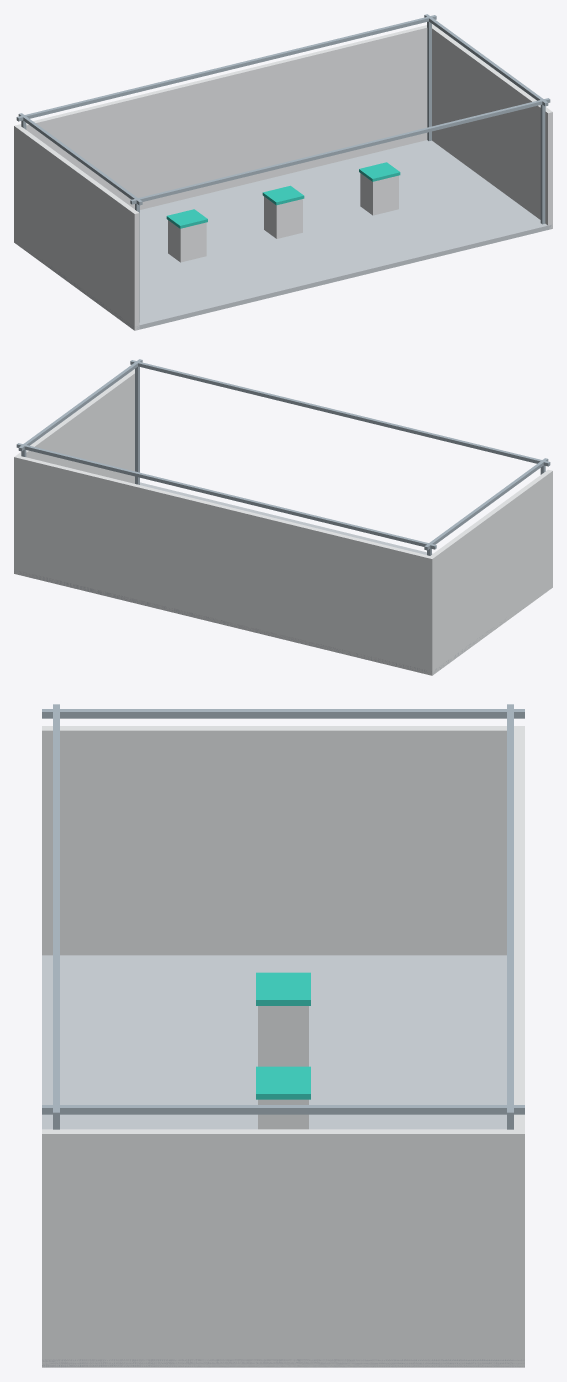
3 renders of one model, top to bottom at view 1: azimuth 30°, elevation 25°; view 2: azimuth 150°, elevation 25°; view 3: azimuth 270°, elevation 25°, orthographic. The views are drawn at different scales.
Parts seen in each view (by area): view 1: Exhibition Booth Concept; view 2: Exhibition Booth Concept; view 3: Exhibition Booth Concept.
Boxes of the visible parts, x1,y1,x2,y2 form: Exhibition Booth Concept: (14,14,552,330); Exhibition Booth Concept: (14,359,552,675); Exhibition Booth Concept: (42,704,524,1367).
Bounding box in the file's own units: 12 × 3.49 × 6.
